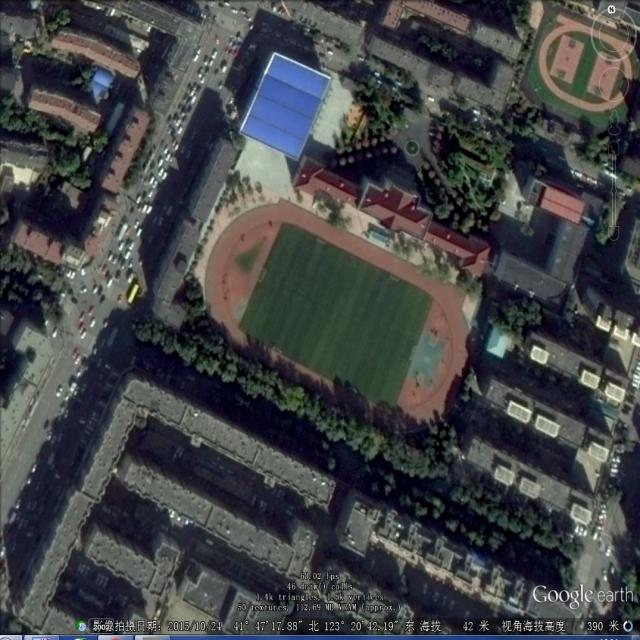playground: (204, 196, 474, 435)
